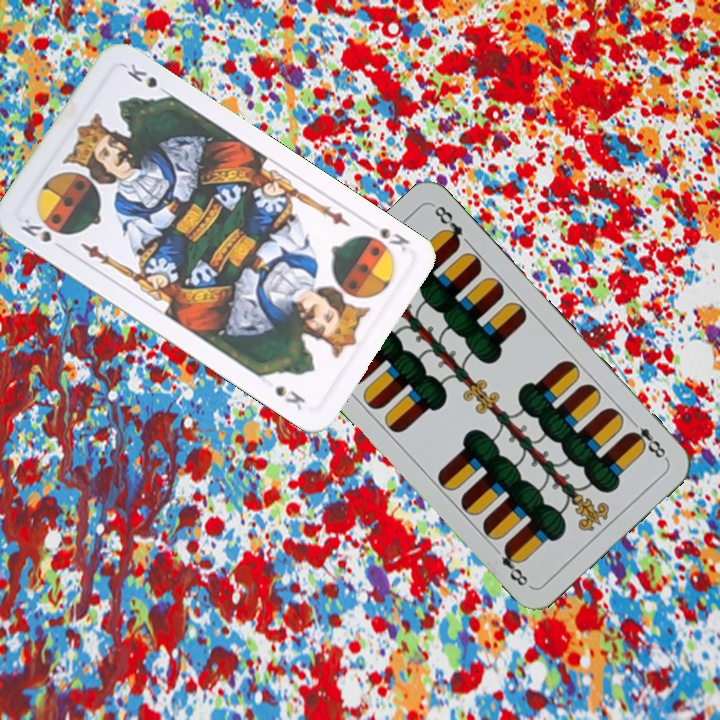E8: (624, 414, 670, 462)
SK: (16, 214, 69, 254), (376, 223, 413, 255)
